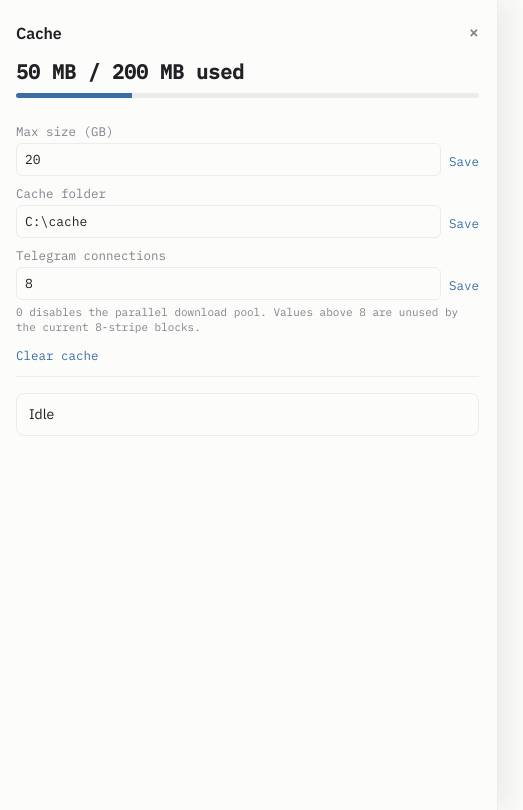
Test: CacheDrawer › rejects invalid Telegram connections value
Clear the number field labelled "Telegram connections" at (228, 283), box 16,266 -> 441,300
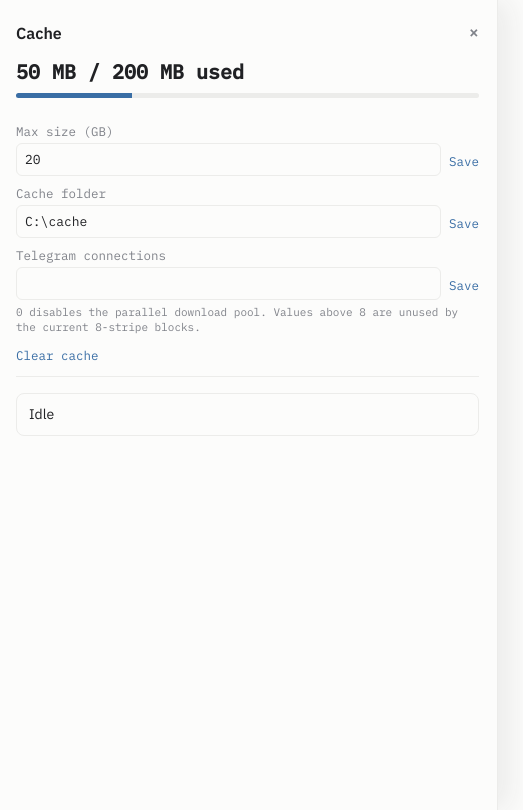
Click the 3rd button "Save".
click(464, 288)  # box 449,276 -> 479,300
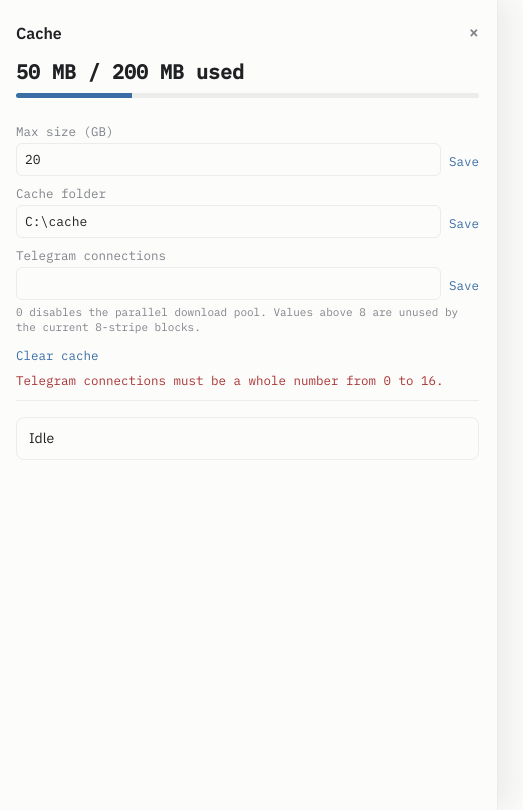
Expected: the message reads "Telegram connections must be a whole number from 0 to 16.", 16,372 -> 444,388
